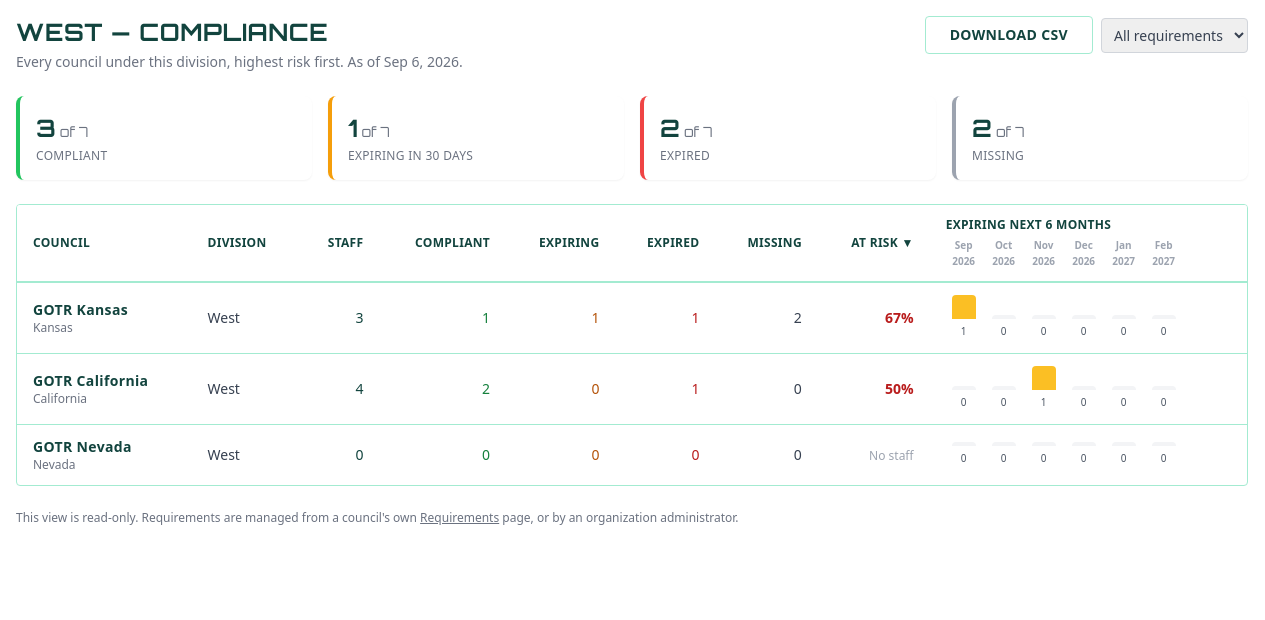
it: OrgCompliance › the download fetches with the token for this org unit and reports the cap
The width and height of the screenshot is (1265, 620).
Expected: the button "GOTR Kansas" is shown, 33,300 -> 128,320
Click the button "Download CSV": (1009, 35) 925,16 -> 1093,54
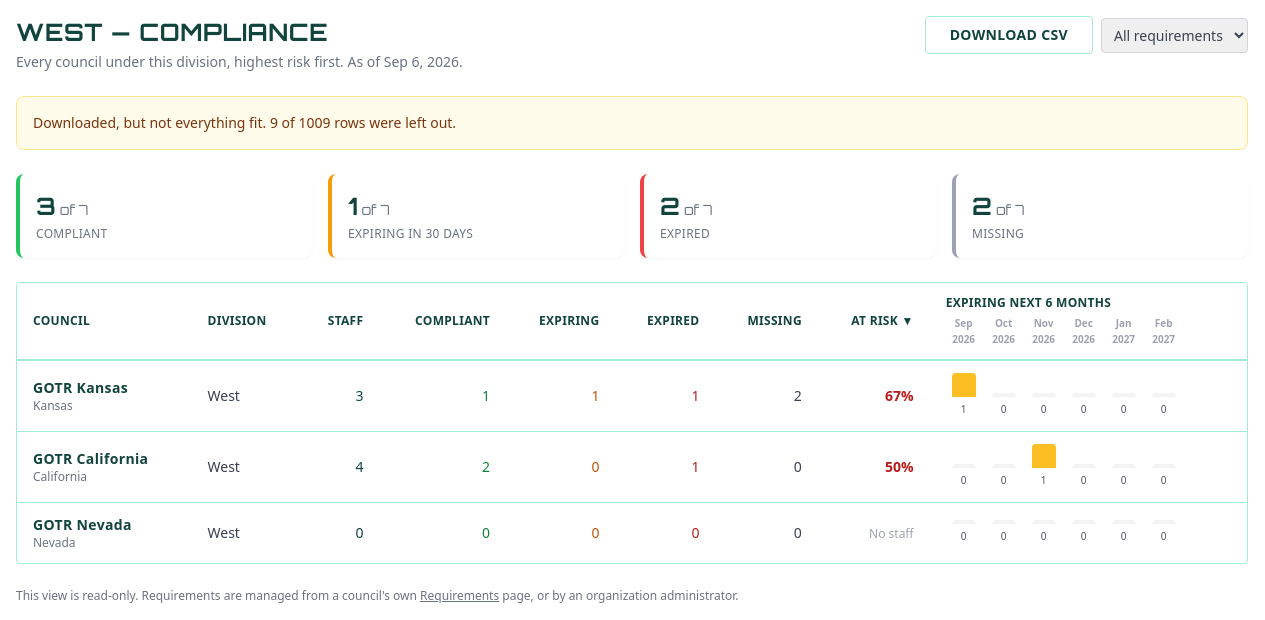
Expected: the text "9 of 1009 rows" is shown, 33,113 -> 456,132
